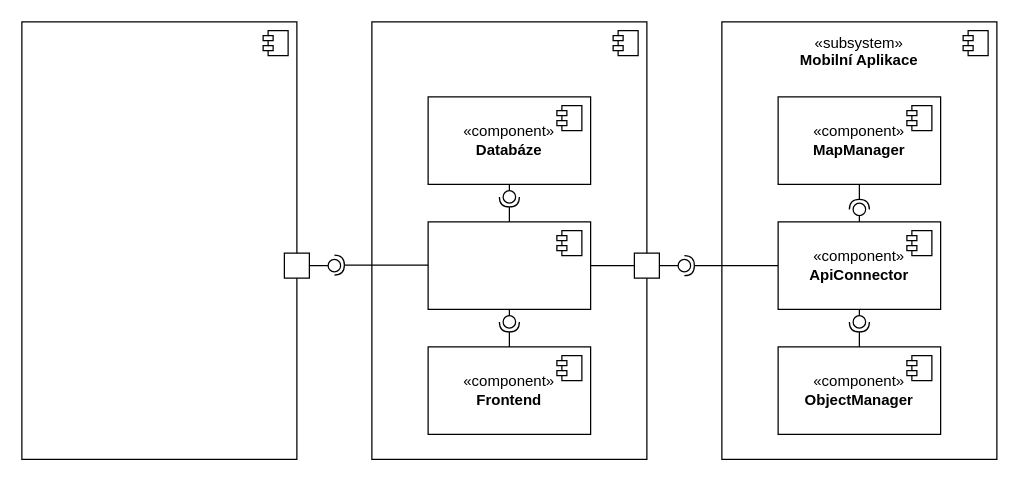
Some shapes in this 1019 by 481 pixel diagram are drawn without their labels. Here are the shapes that lost their labels. From the top down, the box of each, then its label:
(21, 21, 297, 459): «subsystem» Externí Mapové API
(371, 21, 647, 459): «subsystem» Webový Server
(427, 221, 591, 309): «component» B ackend
